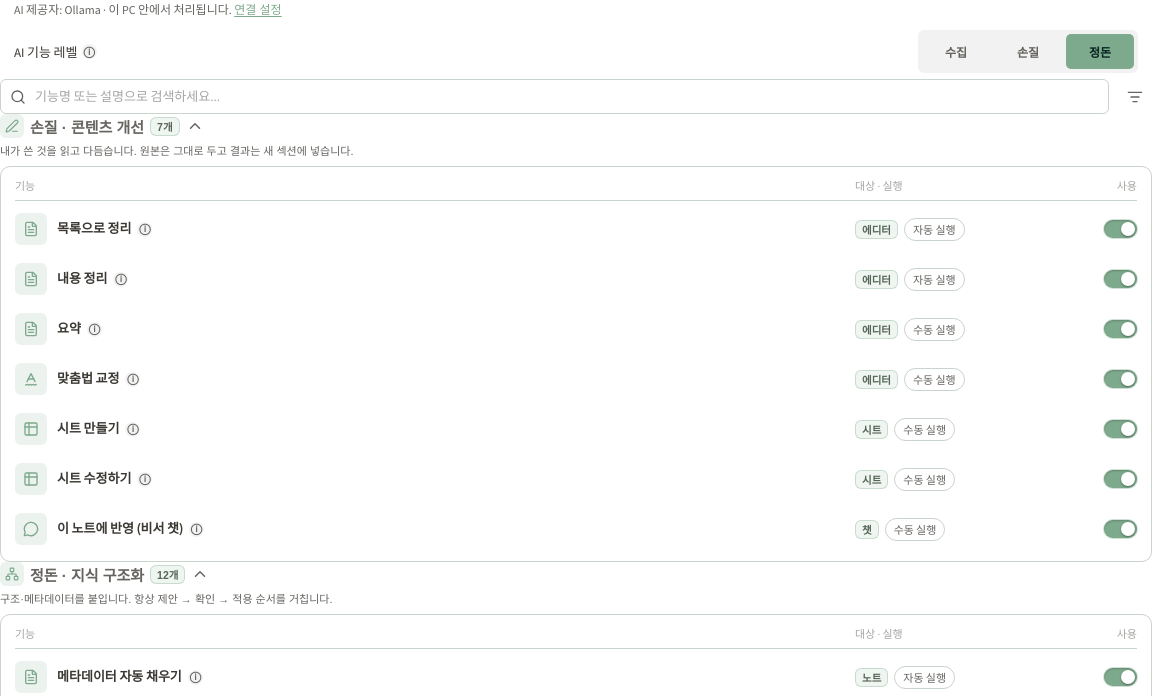
Test: Challenger M4: AiCapabilityCatalog Empirical Adversarial Challenge › 1. Search Filter Responsiveness & Edge Cases › 1.6 clearing search query instantly restores all capabilities across all tiers
Type "맞춤법" into the search field with test id "ai-capability-search-input" at (554, 96), box [0,79,1109,114]
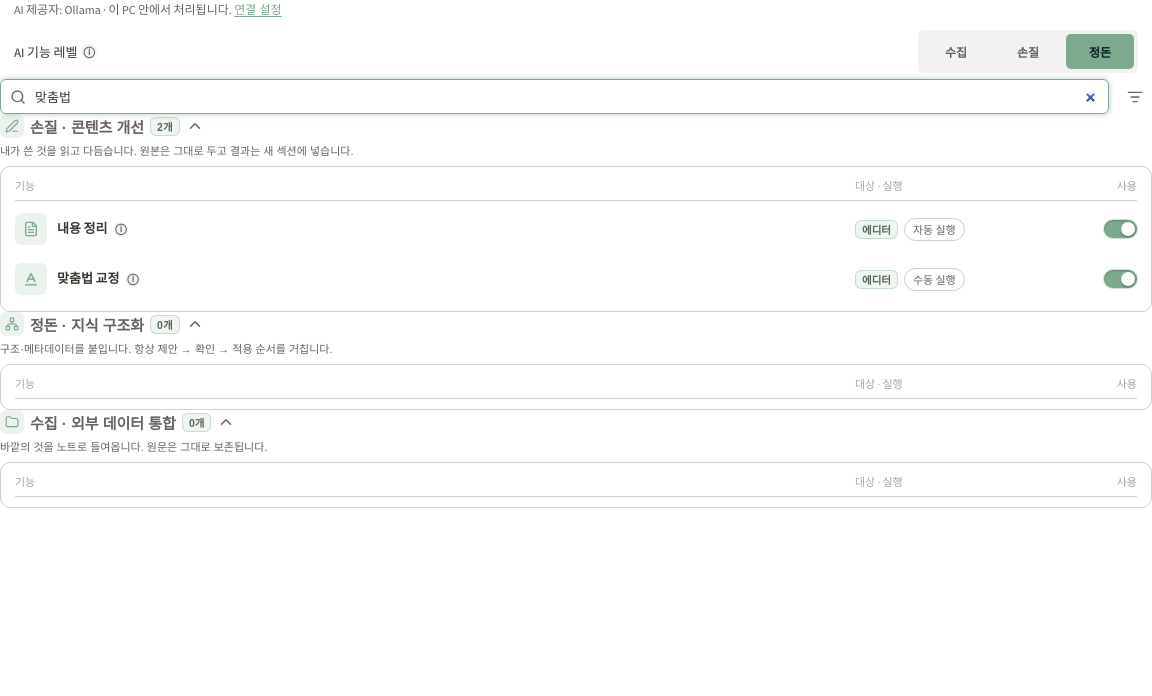
expect the element with test id "ai-capability-row-list" is gone: met
Clear the search field with test id "ai-capability-search-input" at (554, 96), box [0,79,1109,114]
(page scrolled)
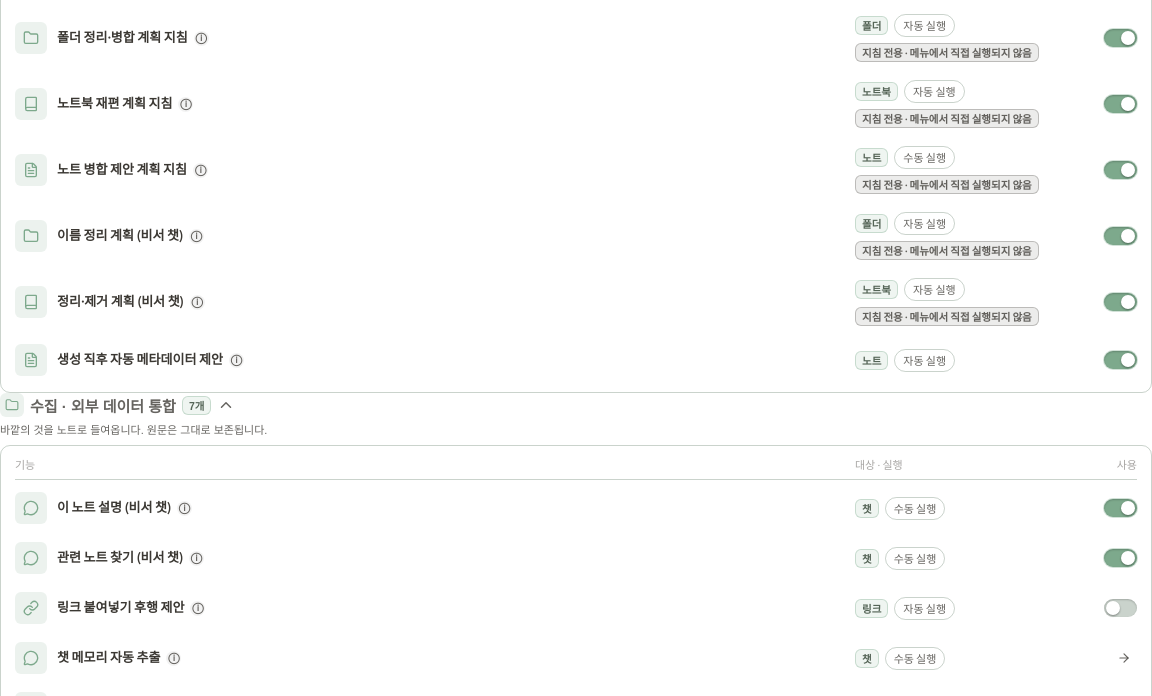
expect the element with test id "ai-capability-row-ai_post_process" is shown: met, box [15,338,1137,382]
